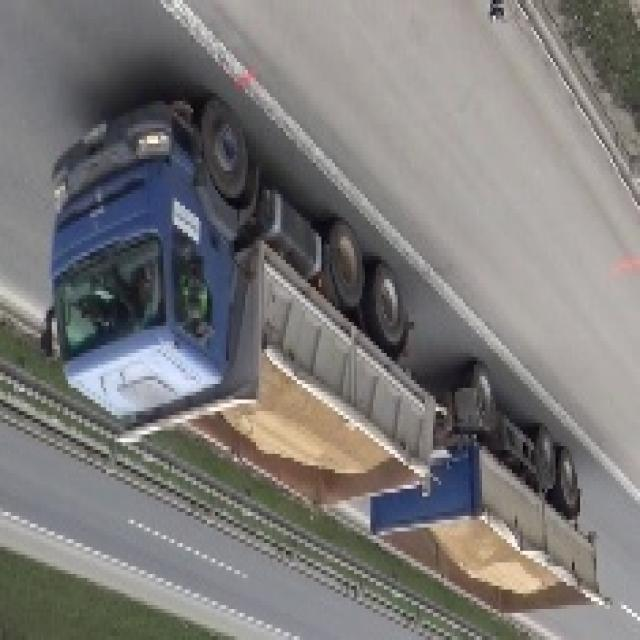truck: (38, 93, 599, 640)
